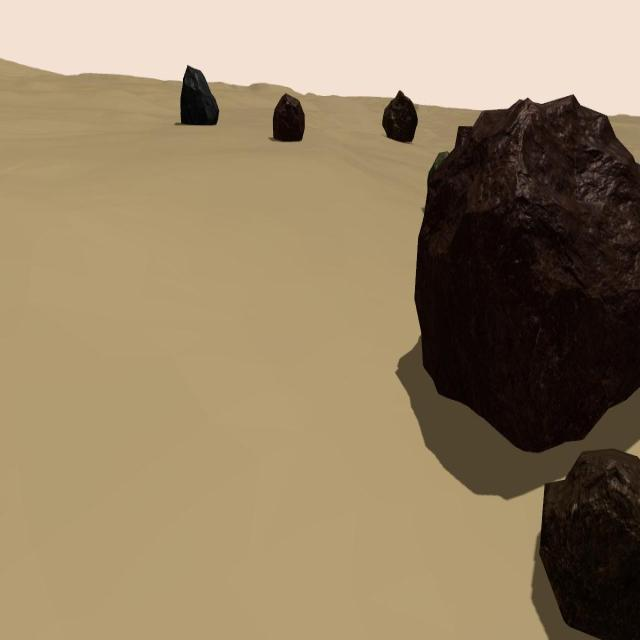rock: (414, 94, 640, 452), (539, 450, 640, 640), (180, 64, 218, 125), (381, 91, 418, 142), (272, 92, 305, 141), (429, 152, 451, 191)
